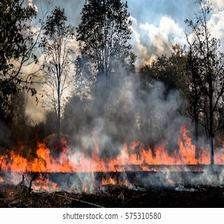fire: (1, 125, 224, 170), (2, 172, 139, 195)
